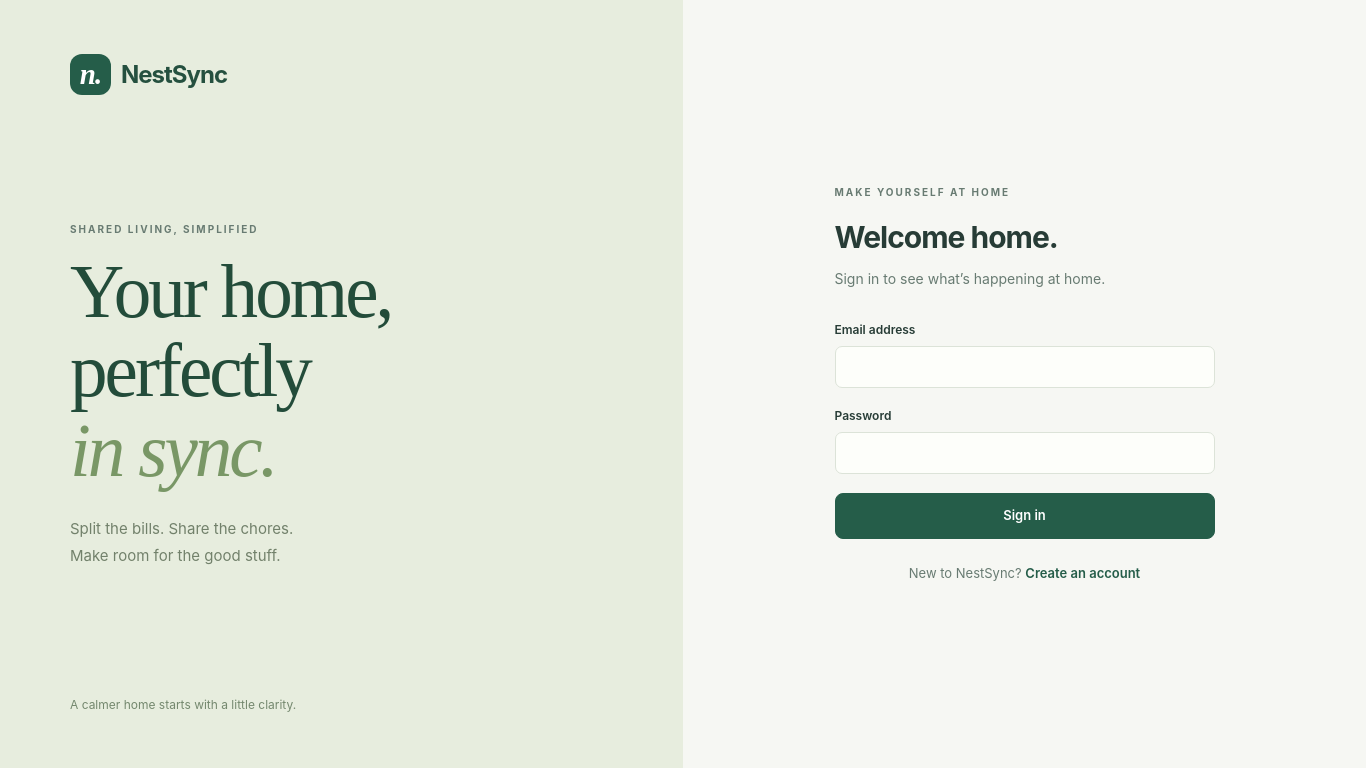
Test: logs in and stores the session
The image size is (1366, 768).
Type "alex@example.com" into the field labelled "Email address".
click(1024, 367); type("alex@example.com")  # box x1=834 y1=346 x2=1214 y2=388
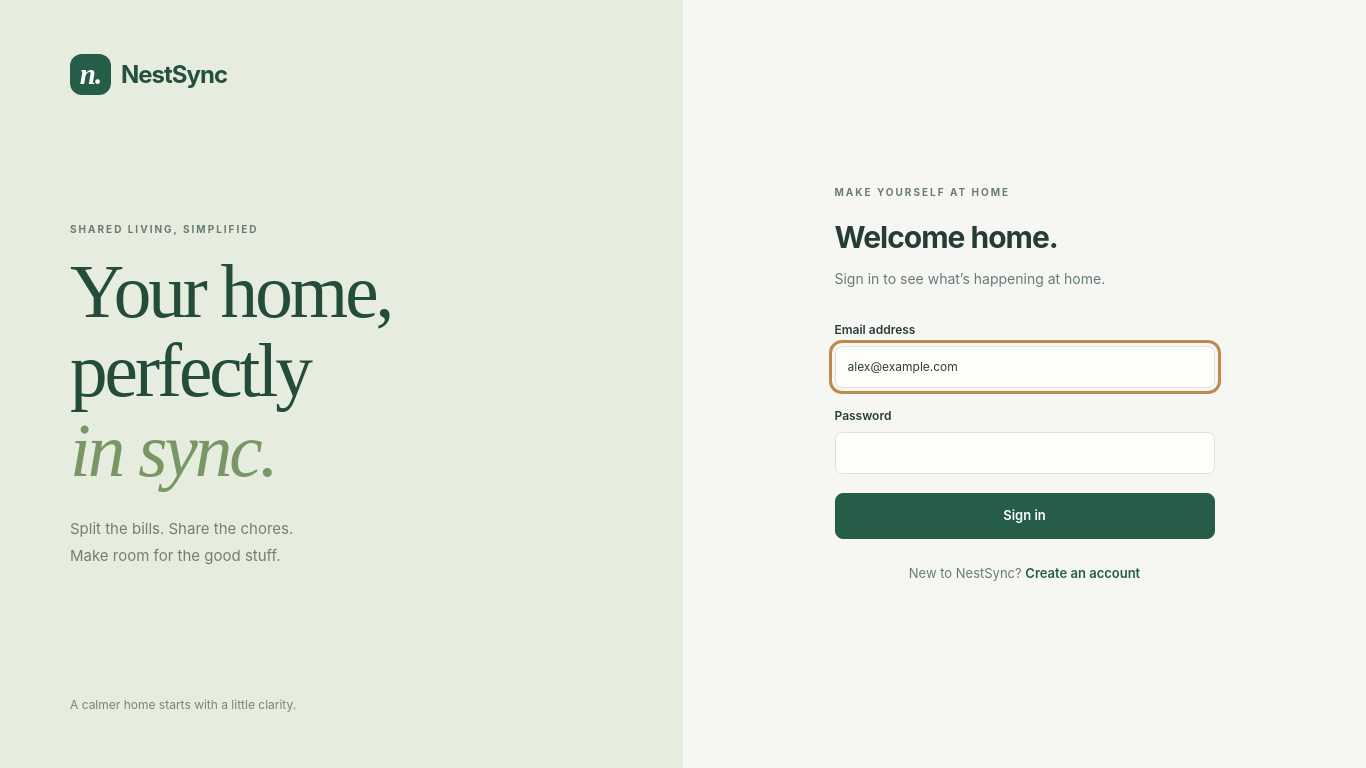
Type "password123" into the password field labelled "Password".
click(1024, 453); type("password123")  # box x1=834 y1=432 x2=1214 y2=474
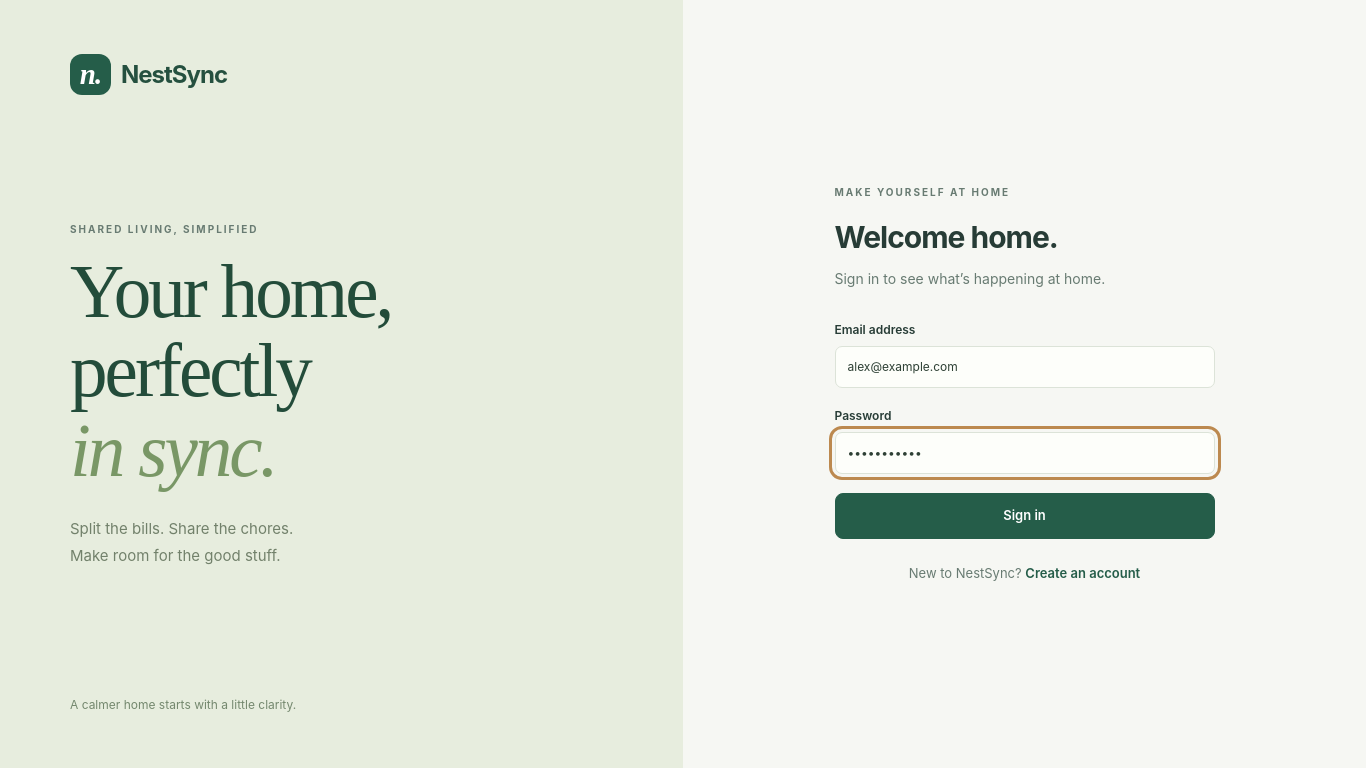
Click the button "Sign in".
click(1024, 516)  # box x1=834 y1=493 x2=1214 y2=538
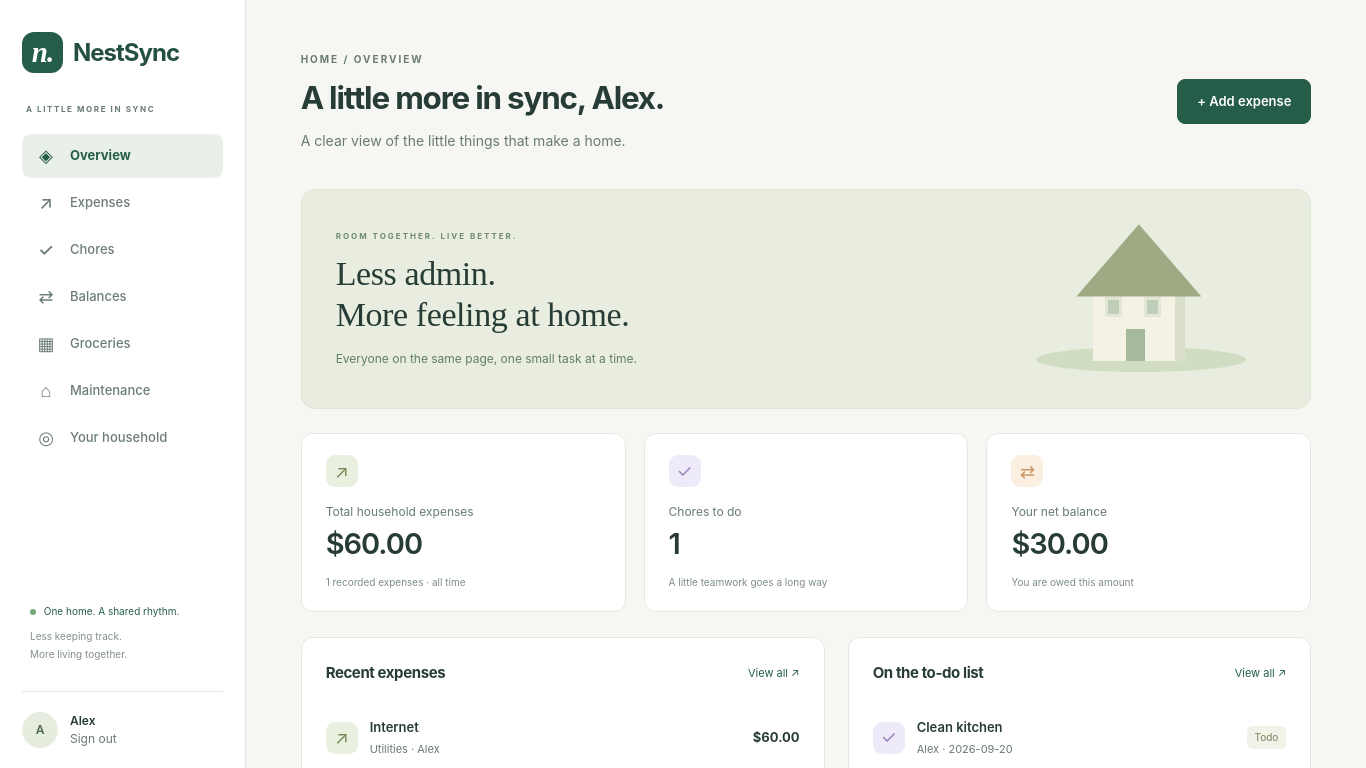
Expected: the heading "A little more in sync, Alex." is shown, x1=301 y1=79 x2=664 y2=118
